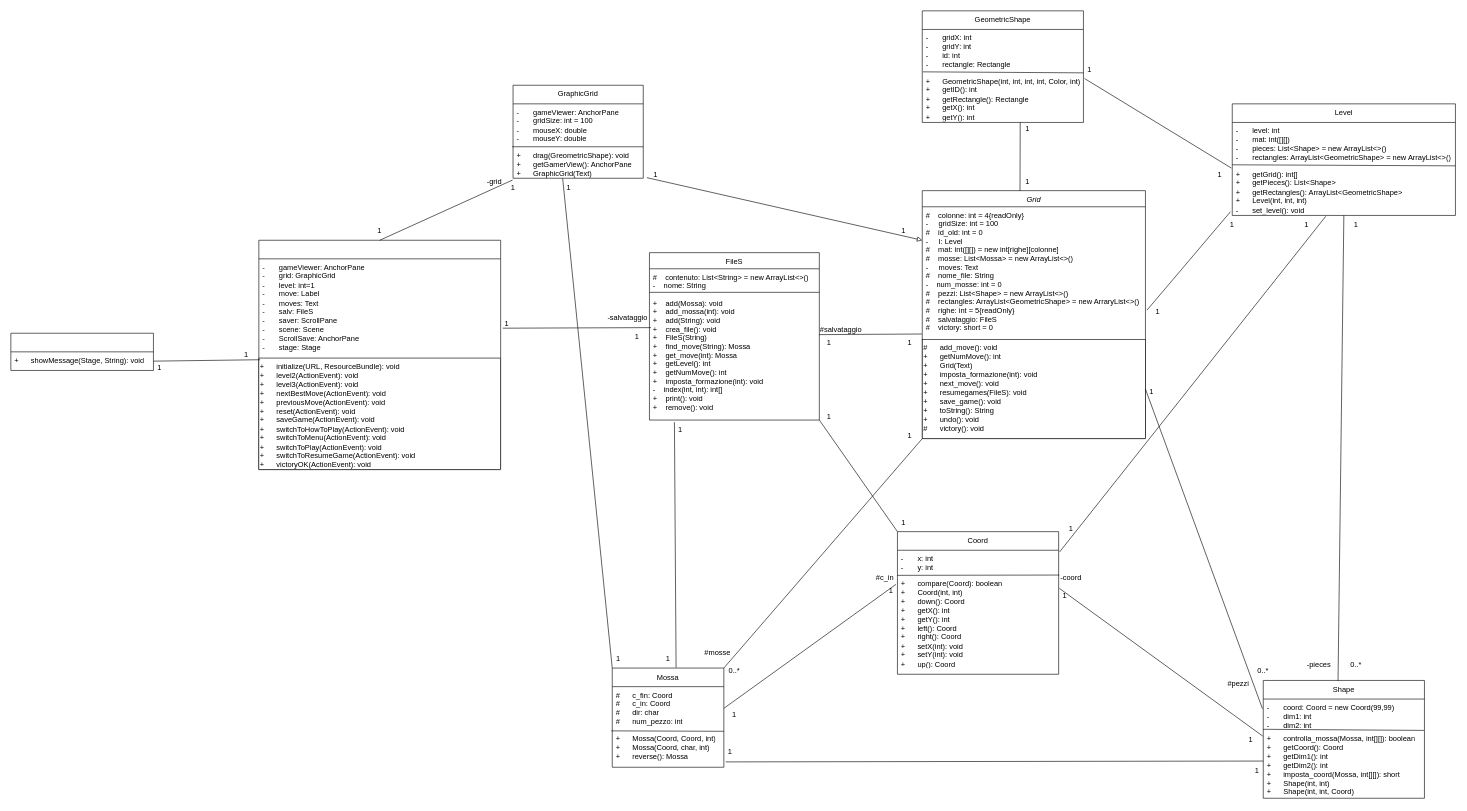
The diagram is 1467 pixels wide and 811 high, and some of its shapes have lost their labels. The shapes that lost their labels are listed below. From the top down, each one's box as (x1, y1, x2, y2) in pixels, then its label:
(10, 333, 153, 370): PrintMessage
(258, 240, 501, 470): Controller
